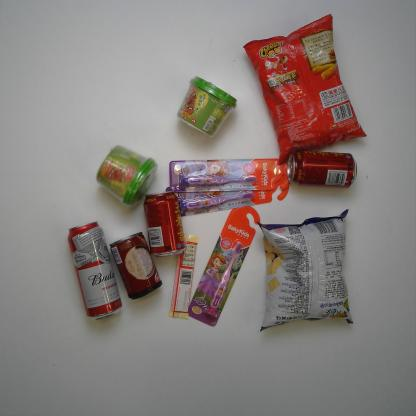Alcohol: (66, 216, 123, 322)
Canned Food: (110, 227, 162, 301)
Chocolate: (168, 231, 200, 321)
Drink: (142, 188, 189, 260), (284, 146, 360, 189)
Instant Drink: (93, 145, 160, 206), (178, 75, 240, 138)
Personal Hygiene: (186, 203, 262, 328), (164, 174, 290, 217), (168, 157, 289, 190)
Puffed Food: (241, 12, 367, 166), (257, 209, 356, 334)
